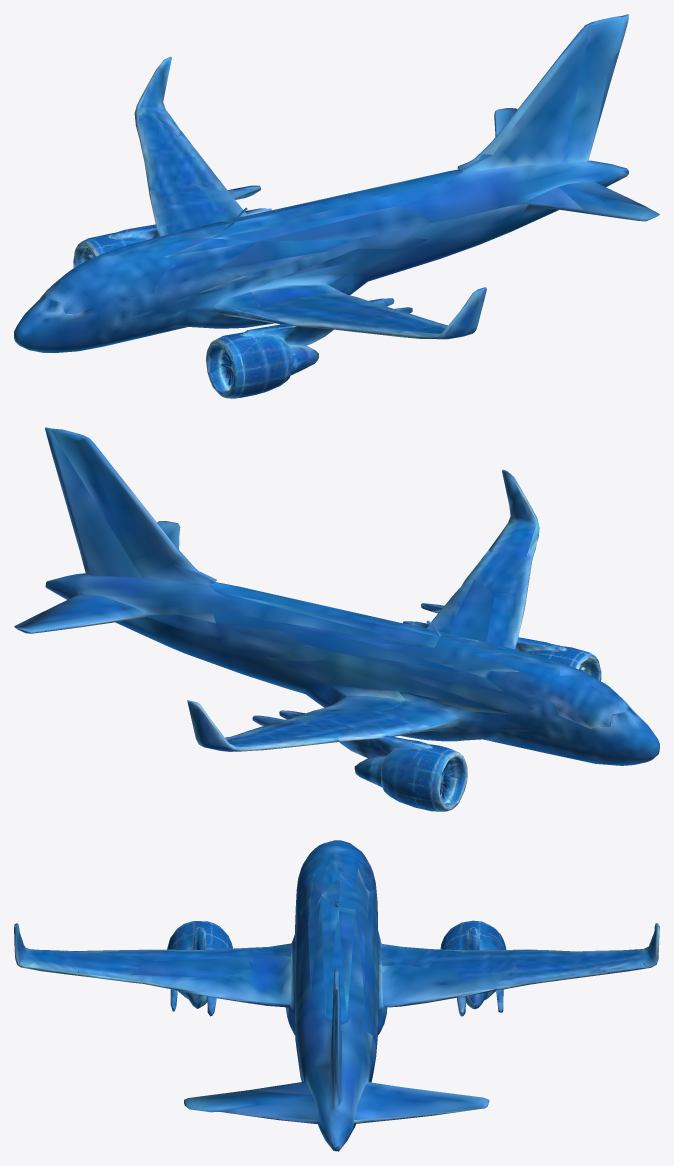
Rendered from avion-commercial.glb.
3 renders of one model, top to bottom at view 1: azimuth 30°, elevation 25°; view 2: azimuth 150°, elevation 25°; view 3: azimuth 270°, elevation 25°, orthographic. The views are drawn at different scales.
Parts seen in each view (by area): view 1: output_unwrapped; view 2: output_unwrapped; view 3: output_unwrapped.
Part boxes in pixels (x1,y1,x2,y2): output_unwrapped: (14,14,659,398); output_unwrapped: (14,427,659,811); output_unwrapped: (14,840,659,1151).
Bounding box in the file's own units: 1 × 0.3471 × 0.8922.
1 material, 1 textured.
